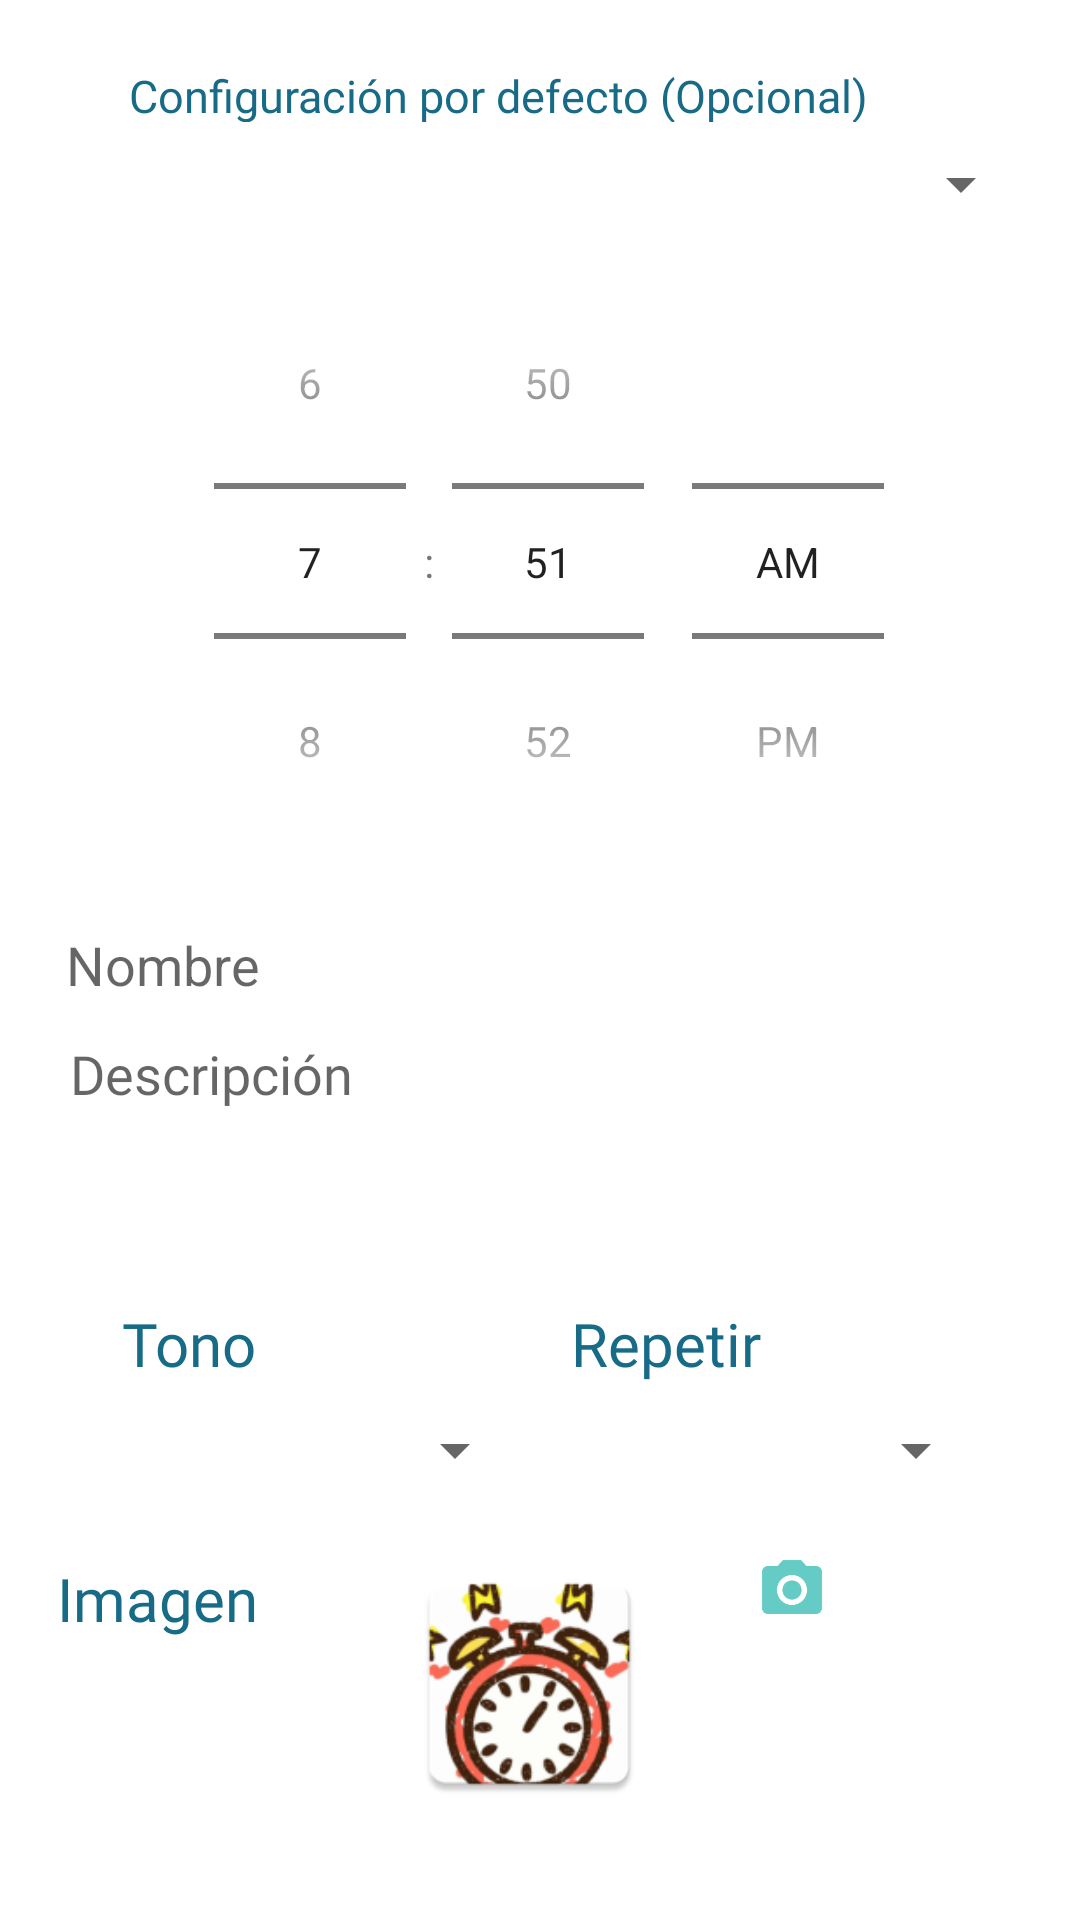

Locate icon controls on the screen. Image size 1080px x 1920px, boxes as (x1, y1, x2, y2).
alarma: (428, 1583, 631, 1790)
photo camera: (762, 1560, 822, 1614)
